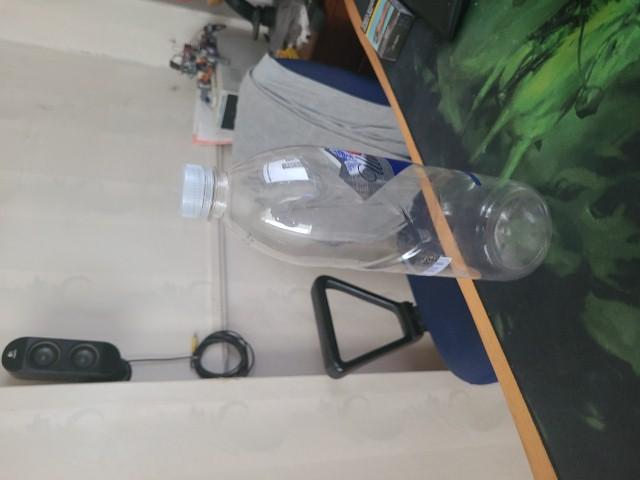plastic_bottle: (265, 135, 447, 414)
